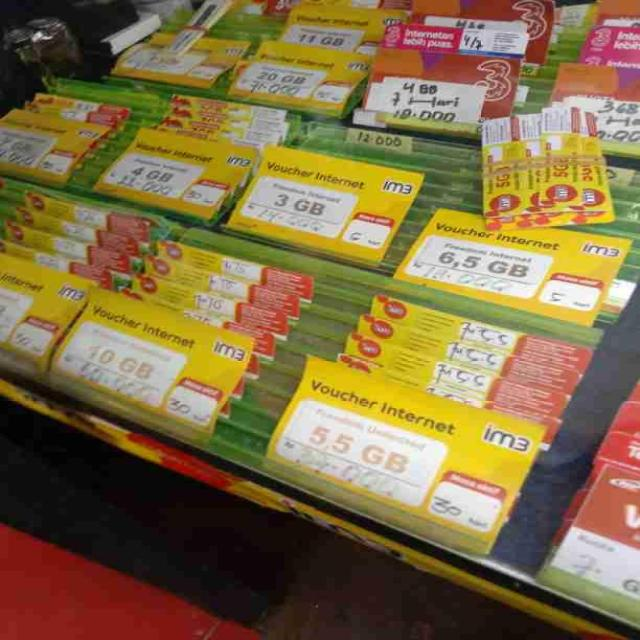Indosat-3: (392, 0, 550, 105)
im3: (321, 279, 586, 542), (2, 183, 294, 414), (128, 88, 422, 250), (450, 102, 638, 311), (247, 0, 380, 78), (6, 85, 118, 173)
